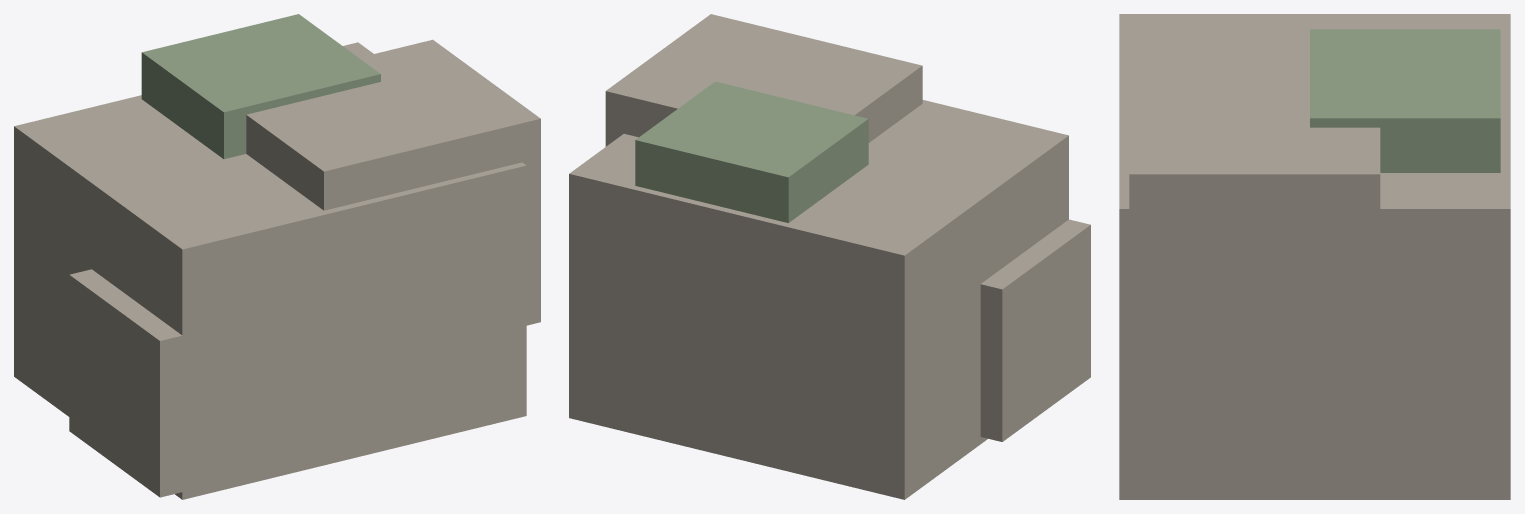
File: boulder.gltf
The picture shows the model from 3 angles, left to right: view 1: azimuth 30°, elevation 25°; view 2: azimuth 150°, elevation 25°; view 3: azimuth 270°, elevation 25°; orthographic projection. The views are drawn at different scales.
Visible parts, largest first — view 1: boulder; view 2: boulder; view 3: boulder.
Part boxes in pixels (box(x1,y1,x2,y2)): boulder: box(14, 14, 540, 499); boulder: box(569, 14, 1090, 499); boulder: box(1119, 14, 1510, 499).
Bounding box in the file's own units: 1.03 × 0.76 × 0.78.
